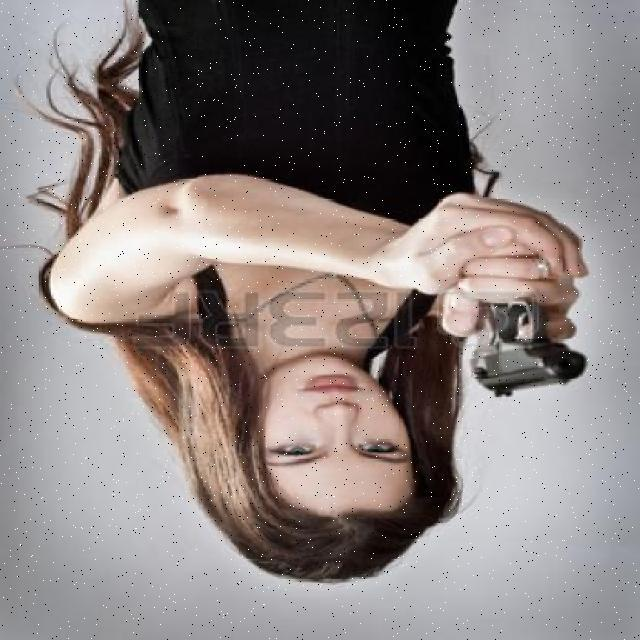gun: (454, 213, 601, 407)
